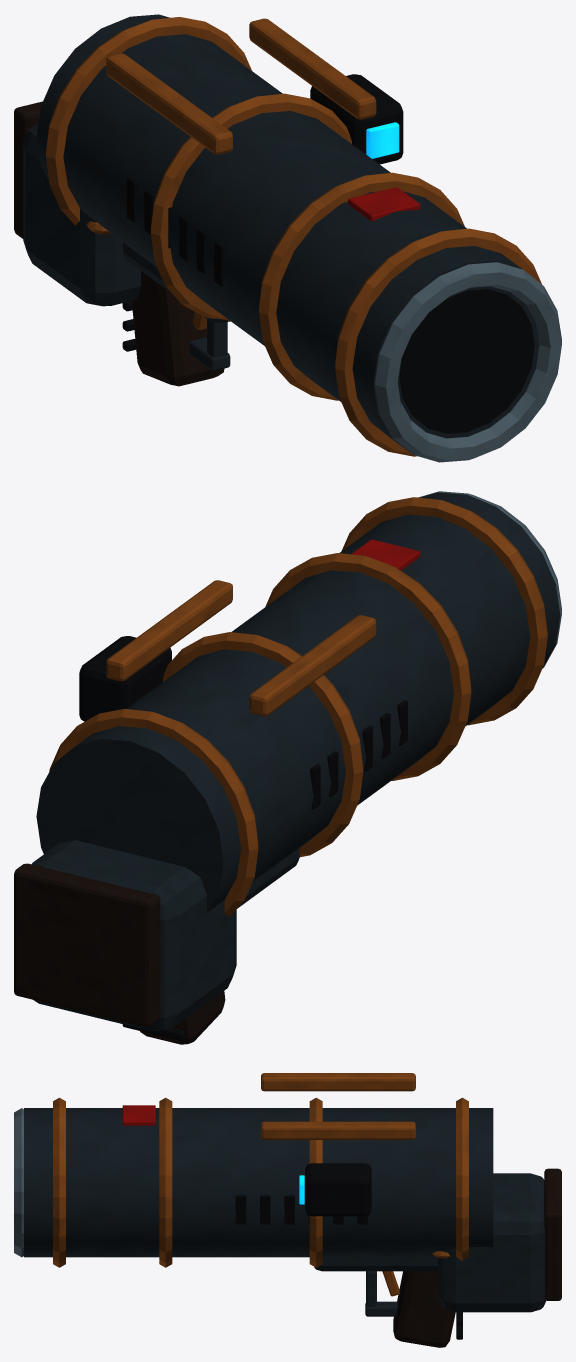
File: pickup_rocket_launcher.glb
The picture shows the model from 3 angles, top to bottom: view 1: azimuth 30°, elevation 25°; view 2: azimuth 150°, elevation 25°; view 3: azimuth 270°, elevation 25°; orthographic projection. The views are drawn at different scales.
Parts seen in each view (by area): view 1: tube, weapon; view 2: tube, weapon; view 3: tube, weapon.
Part boxes in pixels (bbox=[...]): tube: bbox=[36, 14, 561, 462]; weapon: bbox=[14, 18, 403, 386]; tube: bbox=[36, 491, 561, 917]; weapon: bbox=[14, 580, 376, 1044]; tube: bbox=[14, 1097, 493, 1267]; weapon: bbox=[261, 1073, 561, 1347].
Bounding box in the file's own units: 0.4505 × 0.6035 × 1.24.
Materials: 8 (8 with a texture image).
